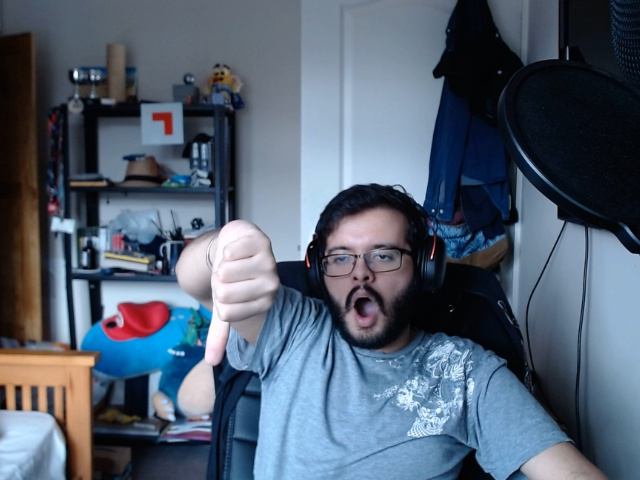Thumbs down: (194, 214, 287, 373)
